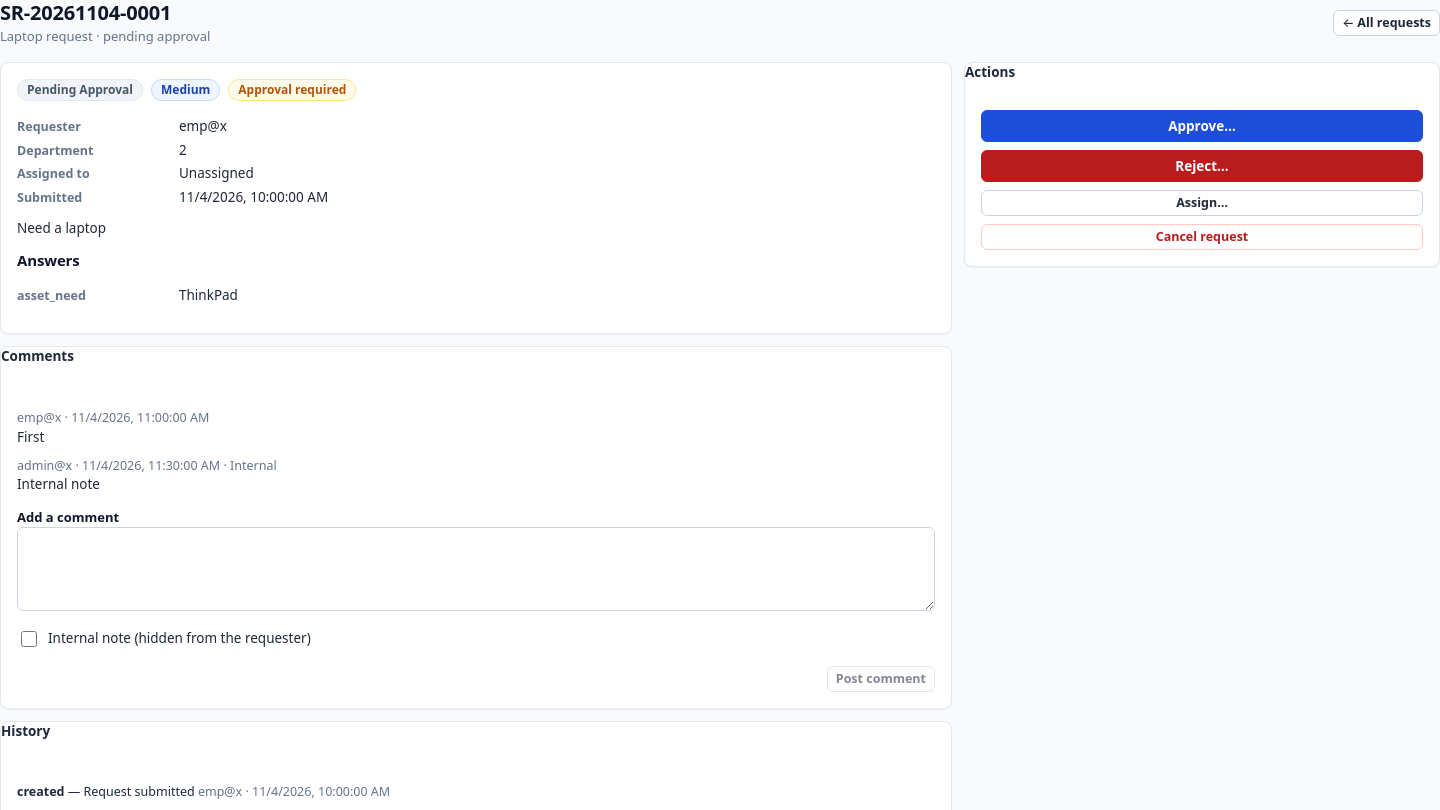
Test: Service request detail › rejects a pending request
This screenshot has width=1440, height=810.
Expected: the heading "SR-20261104-0001" is shown, 0,0 -> 171,26
Click the button "Reject…".
click(1202, 166)  # box 981,150 -> 1423,182
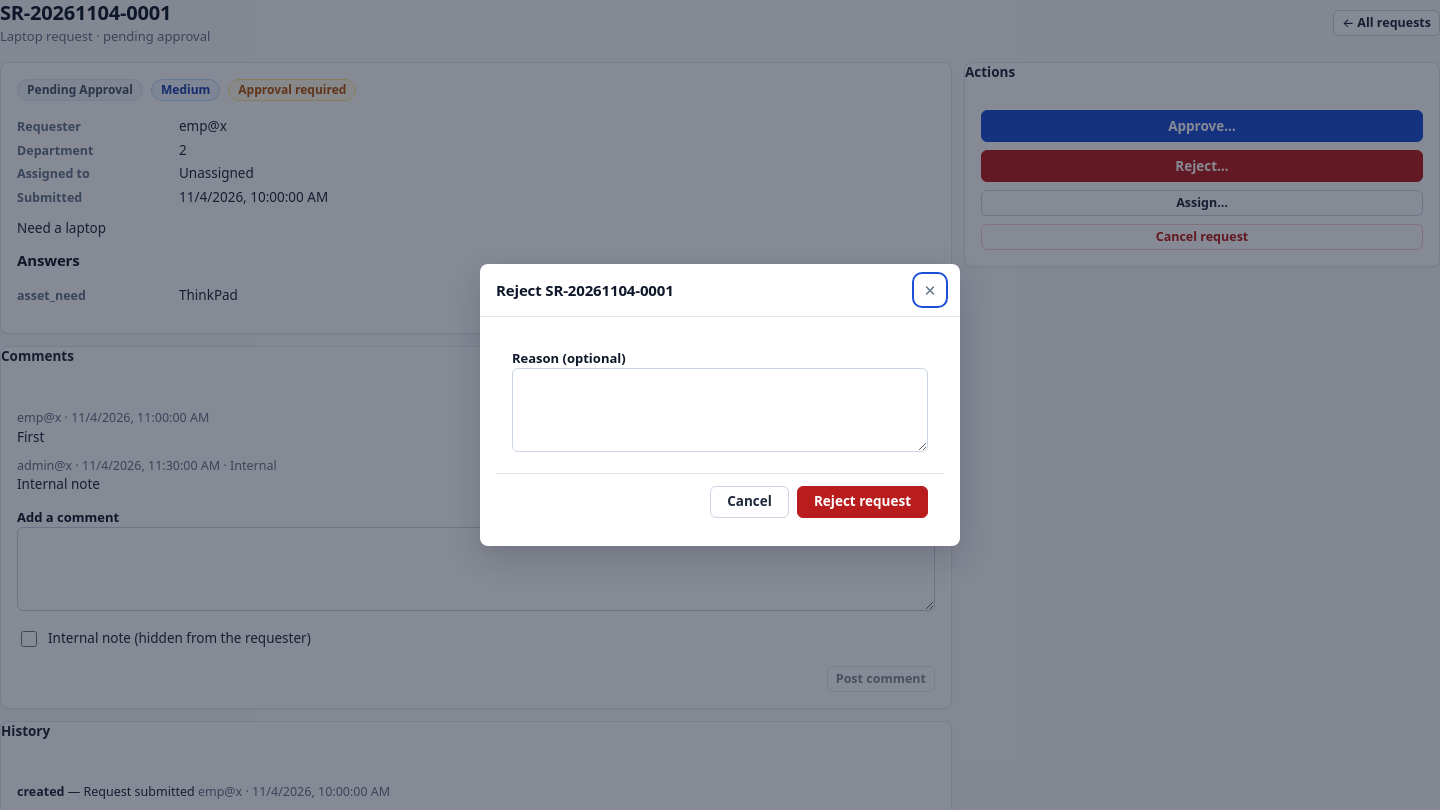
Type "Incomplete" into the text box labelled "Reason (optional)".
click(720, 410); type("Incomplete")  # box 512,368 -> 928,452
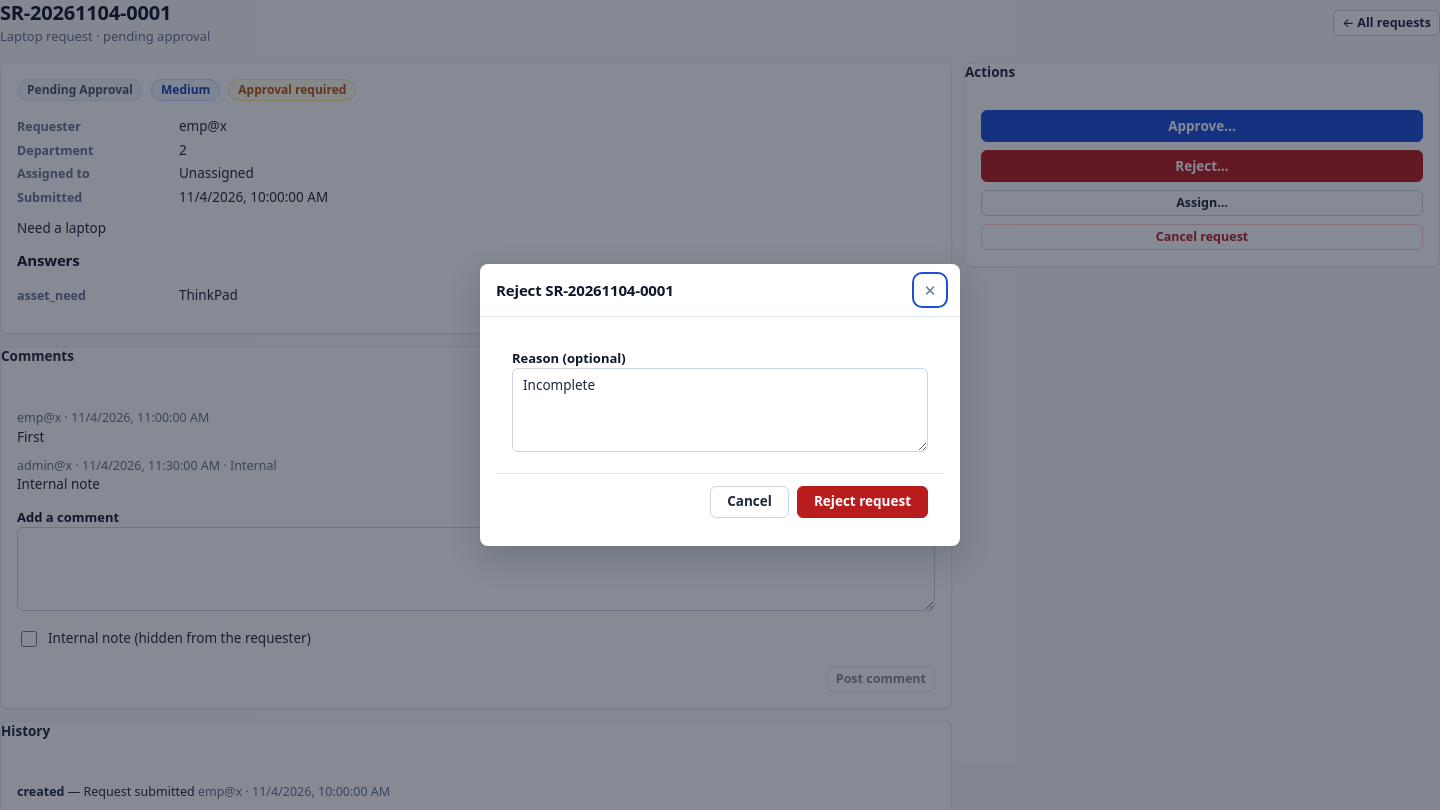
Click the button "Reject request".
click(862, 502)  # box 797,486 -> 928,518
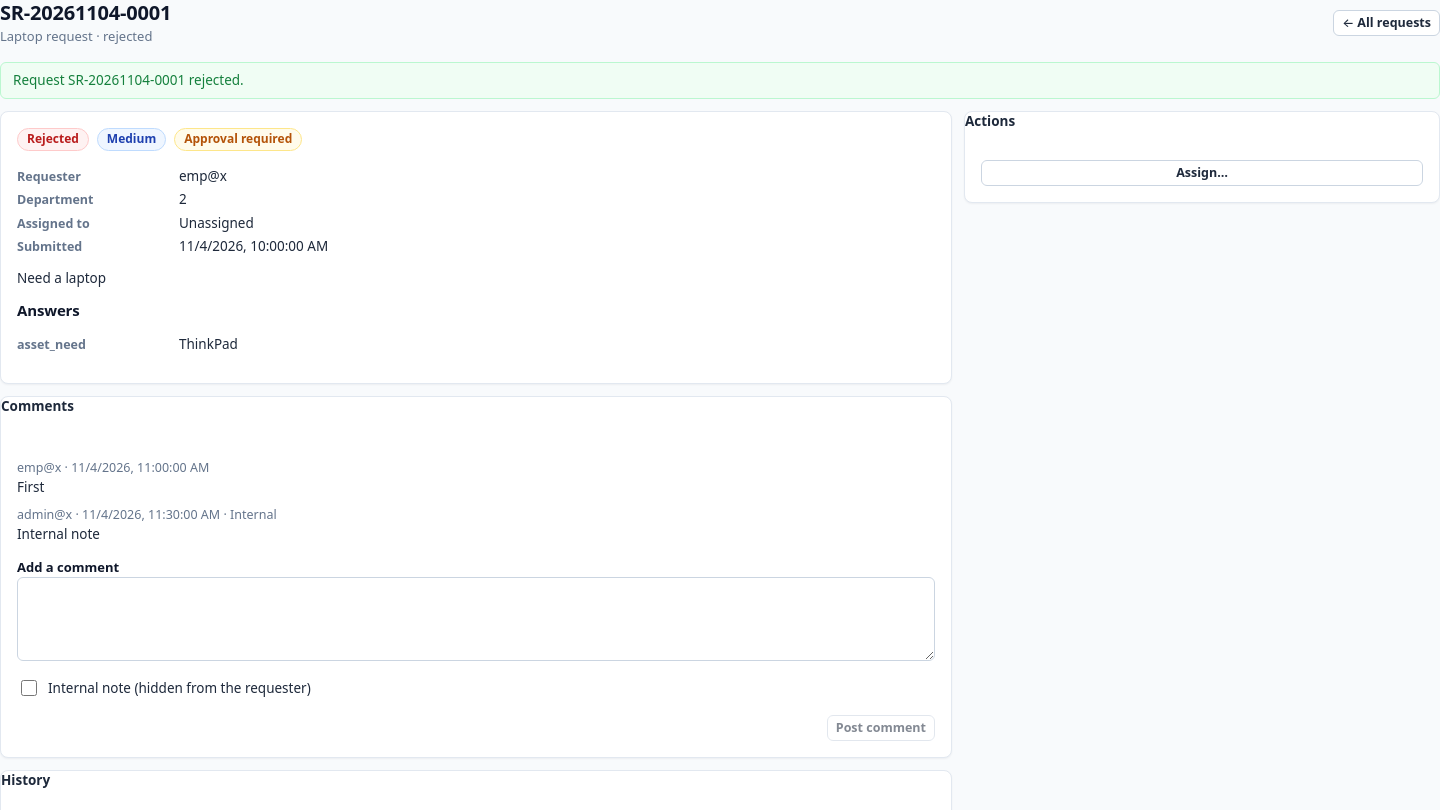
Now the text "Request SR-20261104-0001 rejected." is shown, box 0,62 -> 1439,99
